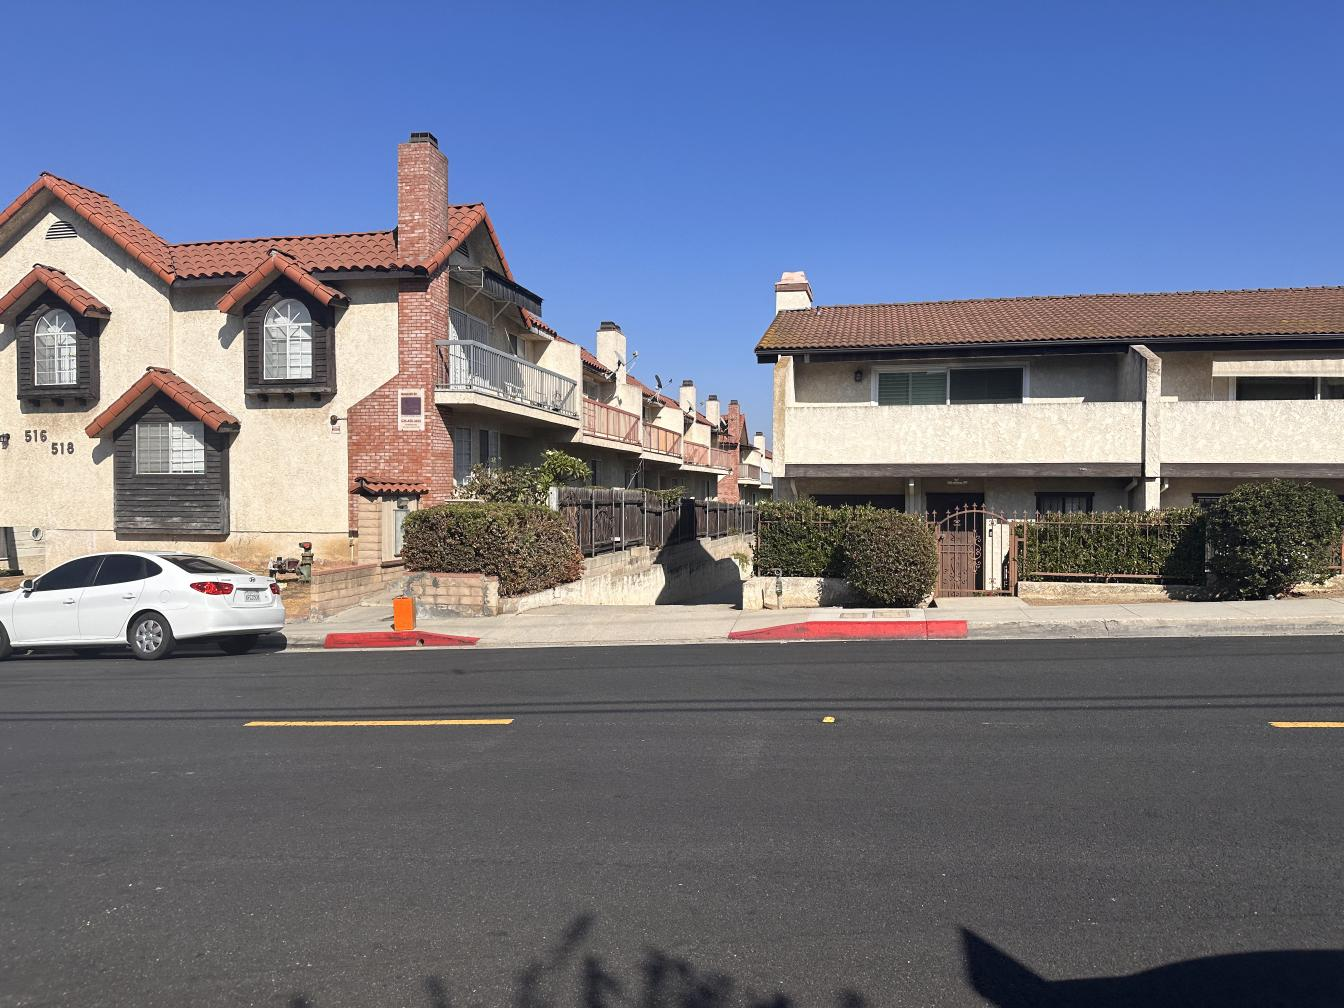curbs-laRr: (971, 610, 1344, 641)
orange box: (391, 592, 420, 633)
